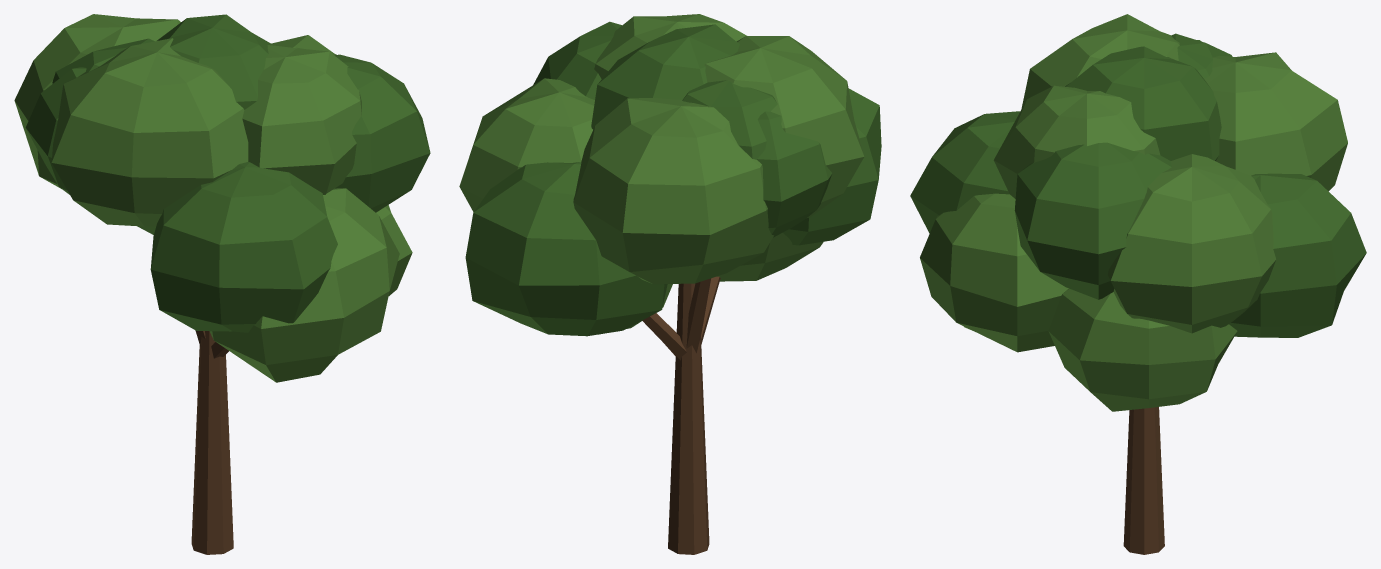
File: tree_oak_medium.glb
3 views of the same model, side by side, from view 1: azimuth 30°, elevation 25°; view 2: azimuth 150°, elevation 25°; view 3: azimuth 270°, elevation 25° (orthographic). The views are drawn at different scales.
Parts seen in each view (by area): view 1: tree_oak_medium; view 2: tree_oak_medium; view 3: tree_oak_medium.
Part boxes in pixels (<box>): tree_oak_medium: <box>14,14,430,554</box>; tree_oak_medium: <box>459,14,881,554</box>; tree_oak_medium: <box>910,14,1366,554</box>.
Bounding box in the file's own units: 6.98 × 9.49 × 8.04.
